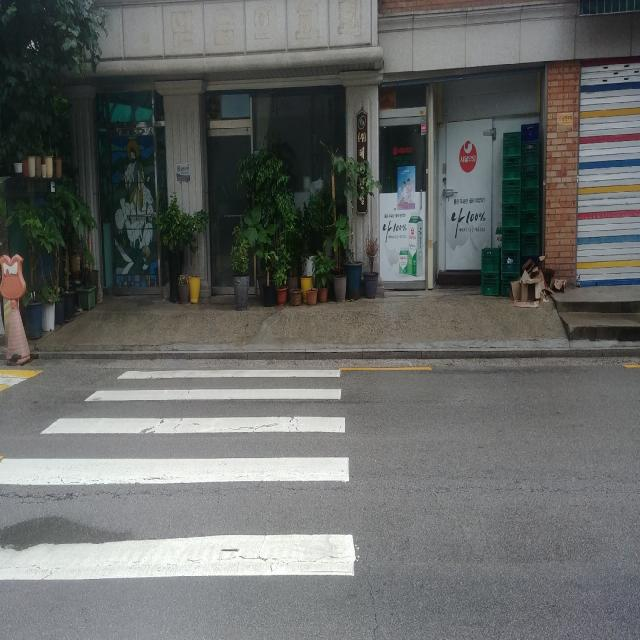횡단보도: (0, 364, 358, 586)
